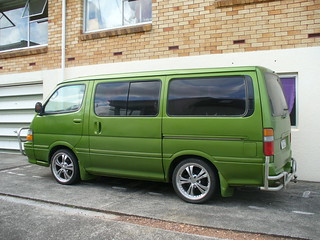van: (23, 65, 297, 204)
